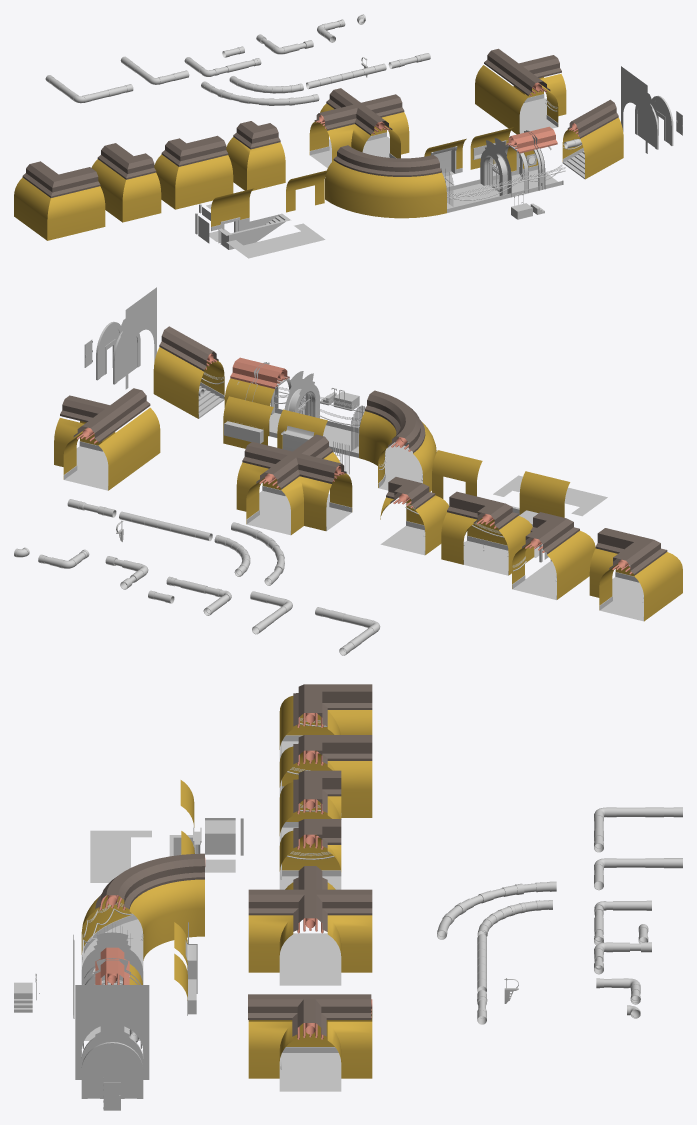
The model's file is Sewerage_Module_6.fbx.
The picture shows the model from 3 angles, top to bottom: view 1: azimuth 30°, elevation 25°; view 2: azimuth 150°, elevation 25°; view 3: azimuth 270°, elevation 25°; orthographic projection. The views are drawn at different scales.
Visible parts, largest first — view 1: SW_6_Tunnel_Utility_Wall_Turn, SW_6_Tunnel_Utility_Wall_Corner_7.5x7.5m, SW_6_Tunnel_Utility_Wall_Corner_R, SW_6_Tunnel_Utility_Wall_T, SW_6_Tunnel_Utility_Wall_Corner_L, SW_6_Tunnel_Utility_Wall_Corner, SW_6_Tunnel_Utility_Wall_Cross, SW_6_Tunnel_Utility_Tile_Cross_Ceiling, SW_6_Tunnel_Utility_Tile_Turn_Ceiling, SW_6_Tunnel_Utility_Tile_T_Ceiling, SW_6_Tunnel_Utility_Wall_Stairs_L, SW_6_Tunnel_Utility_Tile_Corner_7.5x7.5m_Ceiling (+28 smaller); view 2: SW_6_Tunnel_Utility_Wall_T, SW_6_Tunnel_Utility_Wall_Cross, SW_6_Tunnel_Utility_Wall_Corner_7.5x7.5m, SW_6_Tunnel_Utility_Tile_Cross_Ceiling, SW_6_Tunnel_Utility_Wall_Corner_R, SW_6_Tunnel_Utility_Tile_T_Ceiling, SW_6_Tunnel_Utility_Wall_Stairs_R, SW_6_Tunnel_Utility_Wall_Turn, SW_6_Tunnel_Utility_Wall_Corner_L, SW_6_Tunnel_Utility_Tile_Corner_7.5x7.5m_Ceiling, SW_6_Tunnel_Utility_Tile_Turn_Ceiling, SW_6_Tunnel_Utility_Wall_Downstairs (+32 smaller); view 3: SW_6_Tunnel_Utility_Wall_T, SW_6_Tunnel_Utility_Wall_Turn, SW_6_Tunnel_Utility_Wall_Cross, SW_6_Tunnel_Utility_Tile_Cross_Ceiling, SW_6_Tunnel_Wall_Transition_To_Module_2, SW_6_Tunnel_Utility_Tile_T_Ceiling, SW_6_Tunnel_Utility_Ground_Cross, SW_6_Tunnel_Utility_Wall_Corner_L, SW_6_Tunnel_Utility_Tile_Turn_Ceiling, SW_6_Tunnel_Entrance, SW_6_Tunnel_Utility_Ground_T, SW_6_Tunnel_Utility_Tile_Corner_7.5x7.5m_Ceiling (+18 smaller).
Part boxes in pixels (left/top/right/bottom): SW_6_Tunnel_Utility_Wall_Turn: left=325, top=160, right=446, bottom=218; SW_6_Tunnel_Utility_Wall_Corner_7.5x7.5m: left=14, top=177, right=105, bottom=240; SW_6_Tunnel_Utility_Wall_Corner_R: left=154, top=154, right=233, bottom=209; SW_6_Tunnel_Utility_Wall_T: left=475, top=65, right=566, bottom=134; SW_6_Tunnel_Utility_Wall_Corner_L: left=91, top=159, right=161, bottom=222; SW_6_Tunnel_Utility_Wall_Corner: left=226, top=137, right=285, bottom=190; SW_6_Tunnel_Utility_Wall_Cross: left=309, top=103, right=409, bottom=161; SW_6_Tunnel_Utility_Tile_Cross_Ceiling: left=314, top=88, right=404, bottom=135; SW_6_Tunnel_Utility_Tile_Turn_Ceiling: left=333, top=145, right=441, bottom=176; SW_6_Tunnel_Utility_Tile_T_Ceiling: left=484, top=48, right=561, bottom=95; SW_6_Tunnel_Utility_Wall_Stairs_L: left=580, top=117, right=623, bottom=179; SW_6_Tunnel_Utility_Tile_Corner_7.5x7.5m_Ceiling: left=22, top=161, right=100, bottom=197; SW_6_Tunnel_Utility_Wall_T: left=54, top=407, right=160, bottom=490; SW_6_Tunnel_Utility_Wall_Cross: left=236, top=452, right=352, bottom=534; SW_6_Tunnel_Utility_Wall_Corner_7.5x7.5m: left=589, top=548, right=682, bottom=621; SW_6_Tunnel_Utility_Tile_Cross_Ceiling: left=242, top=434, right=346, bottom=489; SW_6_Tunnel_Utility_Wall_Corner_R: left=441, top=512, right=534, bottom=575; SW_6_Tunnel_Utility_Tile_T_Ceiling: left=60, top=388, right=150, bottom=443; SW_6_Tunnel_Utility_Wall_Stairs_R: left=153, top=347, right=203, bottom=418; SW_6_Tunnel_Utility_Wall_Turn: left=359, top=411, right=436, bottom=491; SW_6_Tunnel_Utility_Wall_Corner_L: left=512, top=530, right=595, bottom=599; SW_6_Tunnel_Utility_Tile_Corner_7.5x7.5m_Ceiling: left=595, top=528, right=667, bottom=575; SW_6_Tunnel_Utility_Tile_Turn_Ceiling: left=365, top=390, right=425, bottom=453; SW_6_Tunnel_Utility_Wall_Downstairs: left=519, top=471, right=570, bottom=517; SW_6_Tunnel_Utility_Wall_T: left=248, top=1009, right=372, bottom=1078; SW_6_Tunnel_Utility_Wall_Turn: left=81, top=879, right=204, bottom=960; SW_6_Tunnel_Utility_Wall_Cross: left=248, top=882, right=372, bottom=972; SW_6_Tunnel_Utility_Tile_Cross_Ceiling: left=248, top=866, right=372, bottom=931; SW_6_Tunnel_Wall_Transition_To_Module_2: left=75, top=985, right=149, bottom=1079; SW_6_Tunnel_Utility_Tile_T_Ceiling: left=248, top=994, right=371, bottom=1036; SW_6_Tunnel_Utility_Ground_Cross: left=279, top=933, right=341, bottom=985; SW_6_Tunnel_Utility_Wall_Corner_L: left=279, top=746, right=372, bottom=817; SW_6_Tunnel_Utility_Tile_Turn_Ceiling: left=95, top=853, right=204, bottom=909; SW_6_Tunnel_Entrance: left=81, top=1042, right=143, bottom=1098; SW_6_Tunnel_Utility_Ground_T: left=279, top=1053, right=341, bottom=1091; SW_6_Tunnel_Utility_Tile_Corner_7.5x7.5m_Ceiling: left=293, top=684, right=372, bottom=726.
Bounding box in the file's own units: 7414 × 1200 × 5417.
